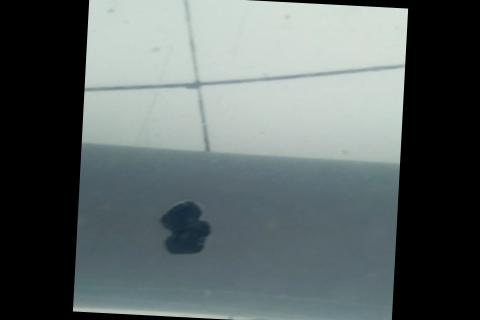kebocoran: (158, 198, 213, 257)
